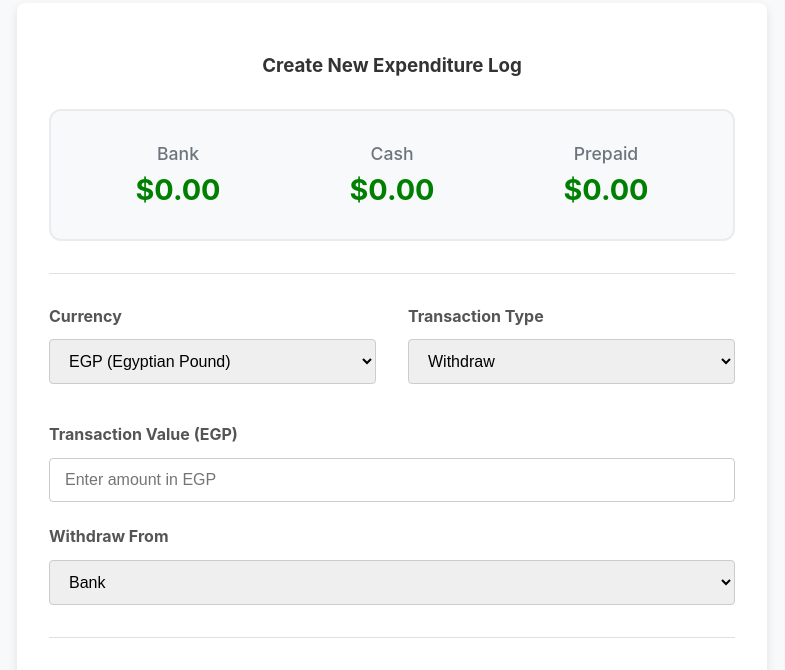
Test: ExpenditureForm - Multi-Currency Selector & Foreign Amount Tests › auto-displays the converted EGP equivalent when foreignAmount is typed
# Switch to USD
Select "USD (US Dollar)" in the dropdown labelled "Currency" at (212, 362), box [49,339,376,384]
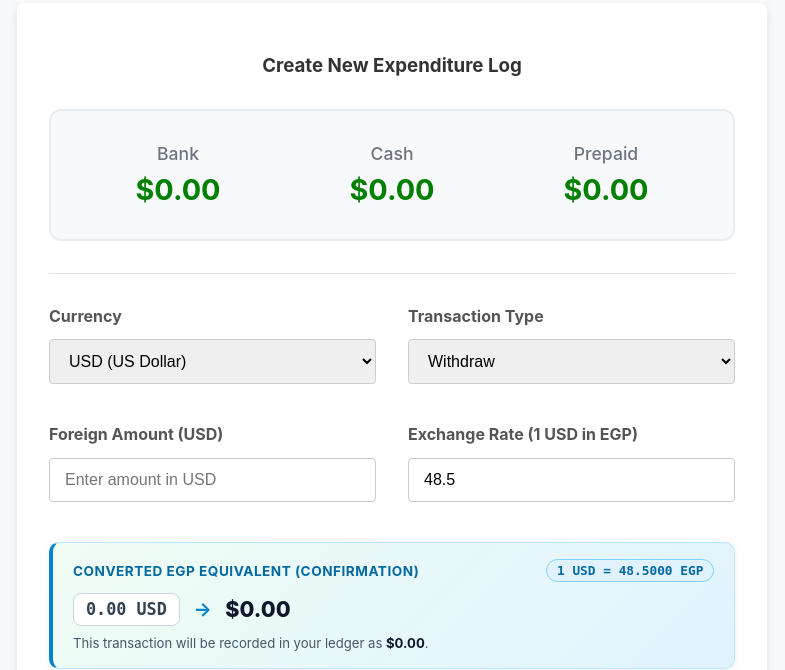
Replace the text in the number field labelled "Exchange Rate (1 USD in EGP)" with "48.50" at (572, 480), box [408,458,735,502]
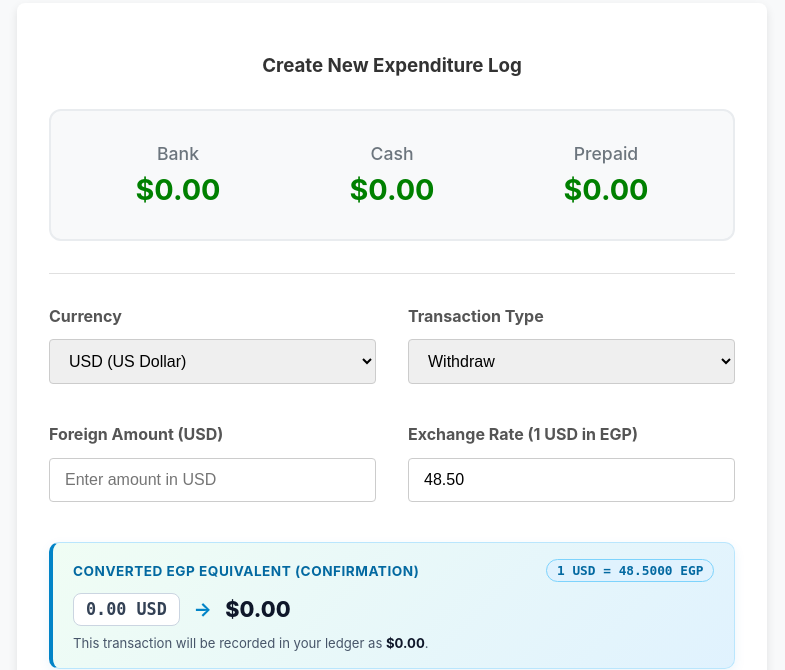
# Enter 100 USD
Type "100" into the number field labelled "Foreign Amount (USD)" at (212, 480), box [49,458,376,502]
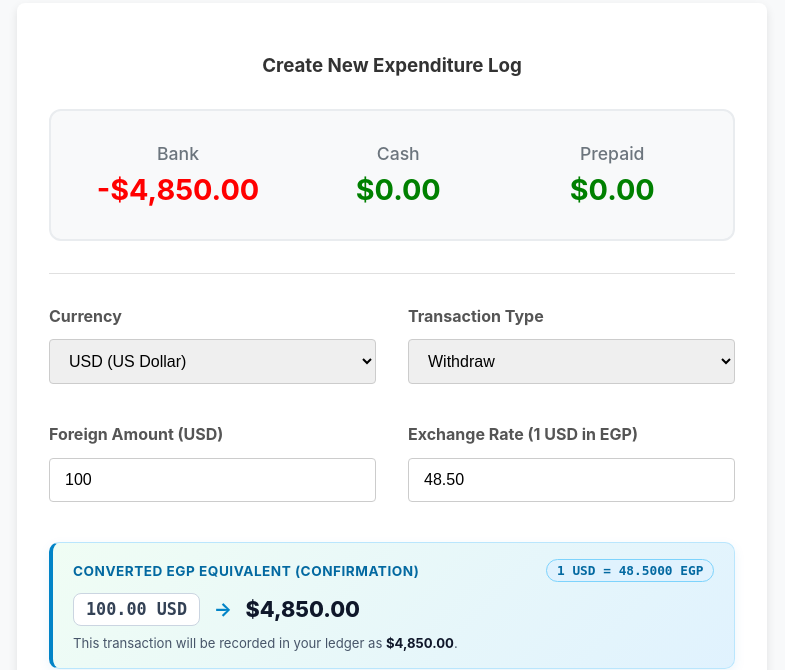
Now the text with test id "converted-egp-value" shows "4,850", box [246,596,360,622]
